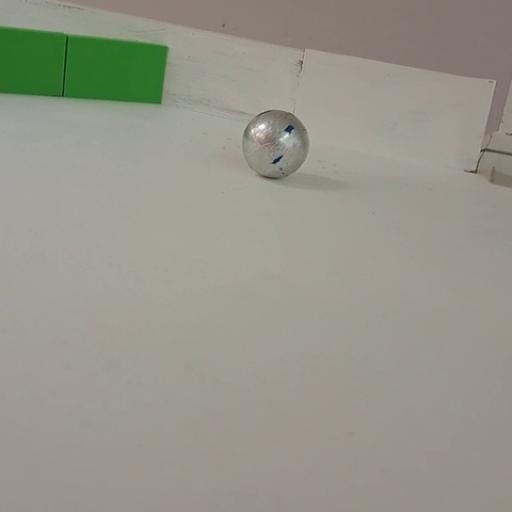alive: (240, 107, 310, 179)
